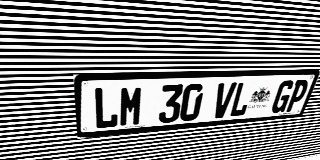0: (179, 83, 205, 122)
3: (158, 84, 184, 124)
G: (269, 80, 296, 113)
L: (93, 87, 119, 129), (228, 82, 255, 117)
M: (119, 86, 144, 127)
P: (284, 80, 311, 112)
V: (210, 82, 237, 119)
